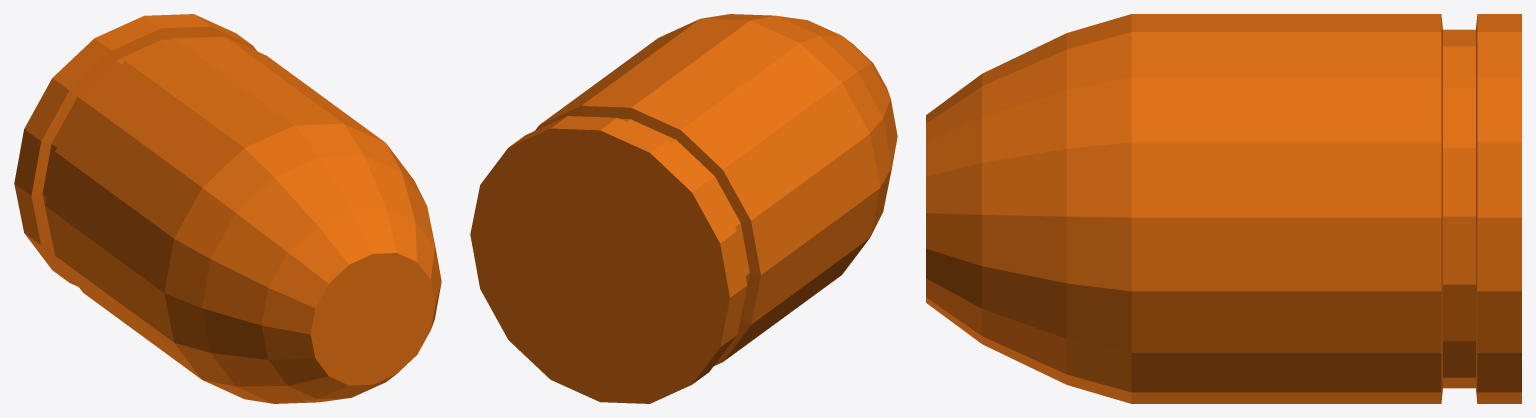
Rendered from silah_bullet.fbx.
The picture shows the model from 3 angles, left to right: view 1: azimuth 30°, elevation 25°; view 2: azimuth 150°, elevation 25°; view 3: azimuth 270°, elevation 25°; orthographic projection. The views are drawn at different scales.
Parts seen in each view (by area): view 1: Bullet; view 2: Bullet; view 3: Bullet.
Boxes of the visible parts, x1=… form: Bullet: x1=14, y1=14, x2=441, y2=403; Bullet: x1=470, y1=14, x2=897, y2=403; Bullet: x1=926, y1=14, x2=1521, y2=403.
Size of the model in its own units: 21.22 by 21.22 by 32.39.
